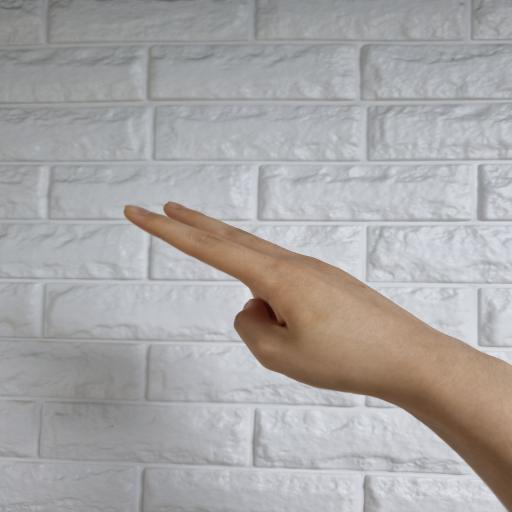Scissors: (123, 201, 512, 512)
